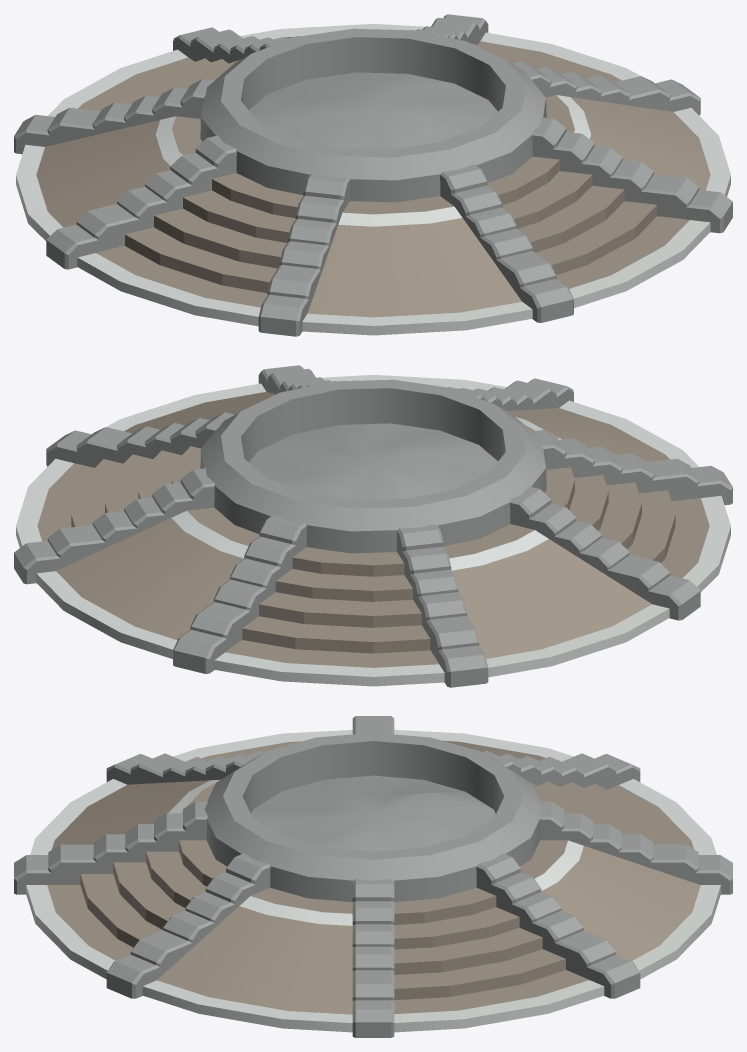
3 views of the same model, one above another, from view 1: azimuth 30°, elevation 25°; view 2: azimuth 150°, elevation 25°; view 3: azimuth 270°, elevation 25° (orthographic). The views are drawn at different scales.
Visible parts, largest first — view 1: G:\FFXIV-MapTools\exports\s1f3\bg\ffxiv\sea_s1\fld\s1f3\bgpa (×6); view 2: G:\FFXIV-MapTools\exports\s1f3\bg\ffxiv\sea_s1\fld\s1f3\bgpa (×6); view 3: G:\FFXIV-MapTools\exports\s1f3\bg\ffxiv\sea_s1\fld\s1f3\bgpa (×6).
Part boxes in pixels (left/top/right/bottom): G:\FFXIV-MapTools\exports\s1f3\bg\ffxiv\sea_s1\fld\s1f3\bgpa (×6): left=14, top=14, right=732, bottom=336; G:\FFXIV-MapTools\exports\s1f3\bg\ffxiv\sea_s1\fld\s1f3\bgpa (×6): left=14, top=365, right=732, bottom=687; G:\FFXIV-MapTools\exports\s1f3\bg\ffxiv\sea_s1\fld\s1f3\bgpa (×6): left=14, top=716, right=732, bottom=1037.
Size of the model in its own units: 17.31 by 2.38 by 17.31.
